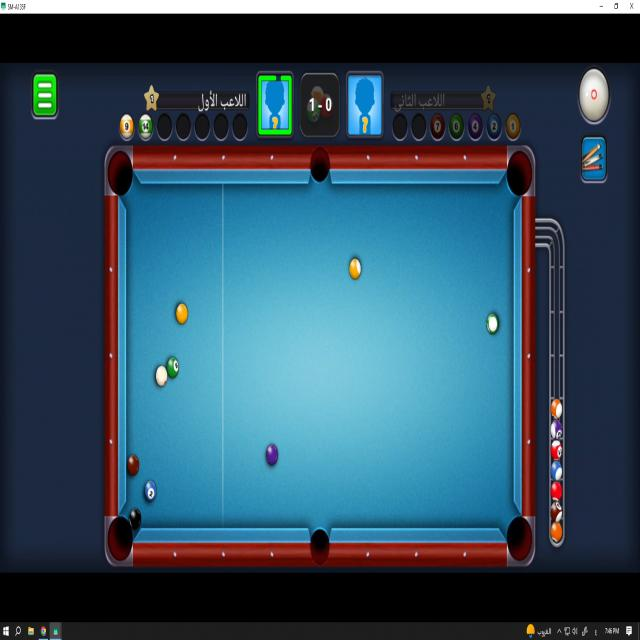object_ball: (266, 444, 278, 465), (129, 508, 141, 529), (127, 455, 139, 475), (167, 357, 178, 378), (176, 303, 187, 324), (145, 480, 156, 501), (487, 313, 498, 334), (349, 259, 360, 279)
white_cue_ball: (156, 365, 168, 386)
